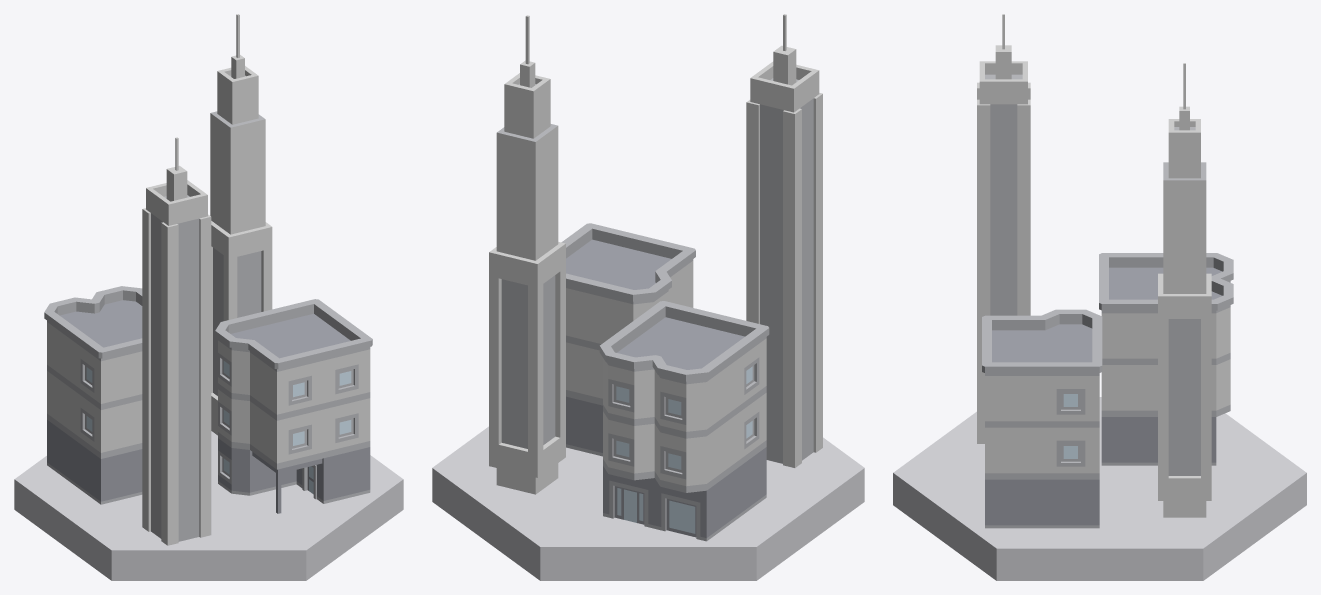
The model's file is 4_buildings_1_low.fbx.
The picture shows the model from 3 angles, left to right: view 1: azimuth 30°, elevation 25°; view 2: azimuth 150°, elevation 25°; view 3: azimuth 270°, elevation 25°; orthographic projection. The views are drawn at different scales.
Visible parts, largest first — view 1: small_buildingC.001, pavement_low.017, low_buildingD.001, small_buildingA.001, low_buildingF.001; view 2: small_buildingA.001, pavement_low.017, low_buildingF.001, low_buildingD.001, small_buildingC.001; view 3: pavement_low.017, small_buildingC.001, low_buildingF.001, small_buildingA.001, low_buildingD.001.
Part boxes in pixels (x1,y1,x2,y2): small_buildingC.001: [215, 299, 372, 513]; pavement_low.017: [14, 431, 403, 580]; low_buildingD.001: [142, 137, 211, 545]; small_buildingA.001: [44, 286, 142, 504]; low_buildingF.001: [210, 14, 272, 435]; small_buildingA.001: [599, 301, 769, 541]; pavement_low.017: [432, 426, 864, 580]; low_buildingF.001: [489, 15, 565, 494]; low_buildingD.001: [746, 14, 822, 467]; small_buildingC.001: [561, 223, 695, 456]; pavement_low.017: [893, 397, 1306, 580]; small_buildingC.001: [982, 309, 1102, 528]; low_buildingF.001: [1158, 63, 1211, 517]; small_buildingA.001: [1099, 253, 1233, 465]; low_buildingD.001: [977, 14, 1030, 443].
Bounding box in the file's own units: 100 × 147 × 115.
